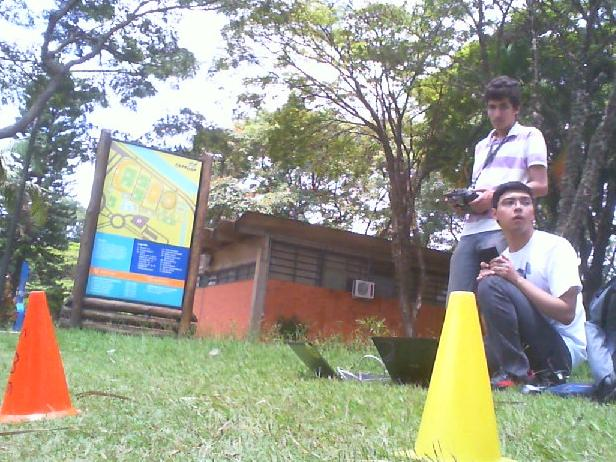0 cone: (393, 291, 517, 462), (0, 291, 80, 424)
